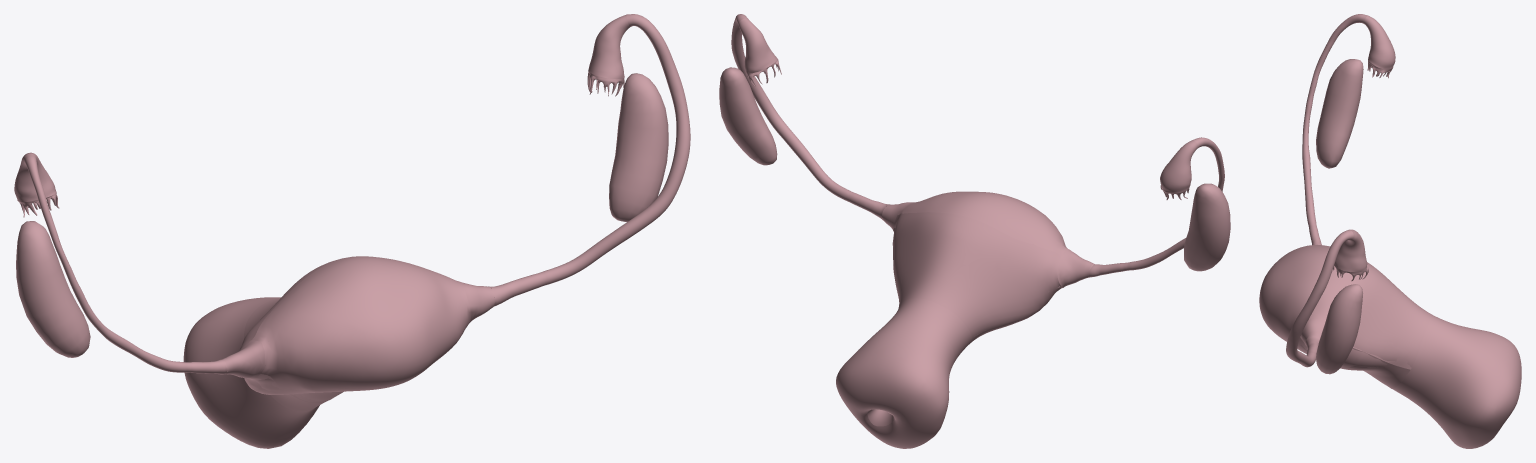
File: female-reproductive.glb
3 renders of one model, left to right at view 1: azimuth 30°, elevation 25°; view 2: azimuth 150°, elevation 25°; view 3: azimuth 270°, elevation 25°, orthographic. The views are drawn at different scales.
Visible parts, largest first — view 1: VH_F_fundus_of_uterus, VH_F_cervix, VH_F_left_ovary, VH_F_right_ovary, VH_F_ampulla_of_uterine_tube_L, VH_F_ampulla_of_uterine_tube_R, VH_F_cornua, VH_F_uterine_tube_infundibulum_L, VH_F_posterior_wall_of_uterus, VH_F_uterine_tube_infundibulum_R, VH_F_lower_uterine_segment, VH_F_isthmus_of_fallopian_tube_L (+1 smaller); view 2: VH_F_body_of_uterus, VH_F_cervix, VH_F_fundus_of_uterus, VH_F_left_ovary, VH_F_right_ovary, VH_F_ampulla_of_uterine_tube_L, VH_F_lower_uterine_segment, VH_F_cornua, VH_F_uterine_tube_infundibulum_R, VH_F_uterine_tube_infundibulum_L, VH_F_ampulla_of_uterine_tube_R; view 3: VH_F_cervix, VH_F_body_of_uterus, VH_F_fundus_of_uterus, VH_F_right_ovary, VH_F_left_ovary, VH_F_lower_uterine_segment, VH_F_ampulla_of_uterine_tube_L, VH_F_ampulla_of_uterine_tube_R, VH_F_uterine_tube_infundibulum_R, VH_F_uterine_tube_infundibulum_L, VH_F_posterior_wall_of_uterus, VH_F_cornua (+1 smaller).
Boxes of the visible parts, box(x1,y1,x2,y2) form: VH_F_fundus_of_uterus: box(252, 256, 472, 390); VH_F_cervix: box(183, 297, 319, 448); VH_F_left_ovary: box(609, 73, 668, 221); VH_F_right_ovary: box(16, 221, 90, 357); VH_F_ampulla_of_uterine_tube_L: box(539, 14, 690, 285); VH_F_ampulla_of_uterine_tube_R: box(24, 153, 190, 372); VH_F_cornua: box(223, 281, 494, 378); VH_F_uterine_tube_infundibulum_L: box(588, 14, 630, 79); VH_F_posterior_wall_of_uterus: box(256, 333, 462, 402); VH_F_uterine_tube_infundibulum_R: box(14, 152, 56, 201); VH_F_lower_uterine_segment: box(244, 298, 325, 411); VH_F_isthmus_of_fallopian_tube_L: box(488, 273, 543, 306); VH_F_body_of_uterus: box(892, 212, 1062, 343); VH_F_cervix: box(836, 318, 954, 448); VH_F_fundus_of_uterus: box(898, 191, 1067, 256); VH_F_left_ovary: box(719, 67, 777, 165); VH_F_right_ovary: box(1184, 183, 1230, 271); VH_F_ampulla_of_uterine_tube_L: box(731, 14, 851, 201); VH_F_lower_uterine_segment: box(889, 298, 971, 363); VH_F_cornua: box(882, 202, 1093, 287); VH_F_uterine_tube_infundibulum_R: box(1160, 140, 1198, 193); VH_F_uterine_tube_infundibulum_L: box(738, 18, 777, 73); VH_F_ampulla_of_uterine_tube_R: box(1125, 137, 1224, 270); VH_F_cervix: box(1414, 324, 1521, 448); VH_F_body_of_uterus: box(1342, 262, 1429, 375); VH_F_fundus_of_uterus: box(1259, 245, 1355, 350); VH_F_right_ovary: box(1316, 59, 1363, 168); VH_F_left_ovary: box(1316, 284, 1362, 374); VH_F_lower_uterine_segment: box(1392, 313, 1455, 401); VH_F_ampulla_of_uterine_tube_L: box(1286, 230, 1353, 367); VH_F_ampulla_of_uterine_tube_R: box(1302, 14, 1367, 225); VH_F_uterine_tube_infundibulum_R: box(1363, 15, 1395, 69); VH_F_uterine_tube_infundibulum_L: box(1334, 229, 1367, 272); VH_F_posterior_wall_of_uterus: box(1274, 332, 1410, 388); VH_F_cornua: box(1300, 244, 1325, 345).
Size of the model in its own units: 1.27 by 0.7914 by 0.587.
